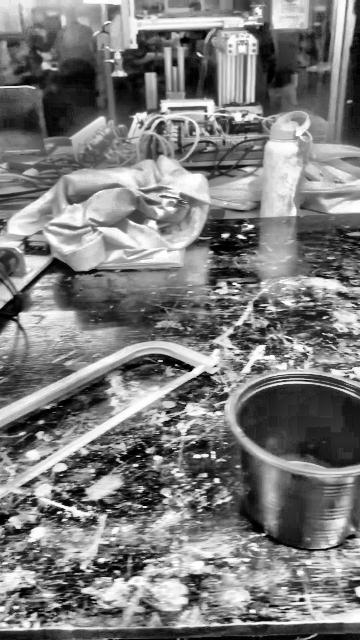pot: (228, 372, 360, 549)
